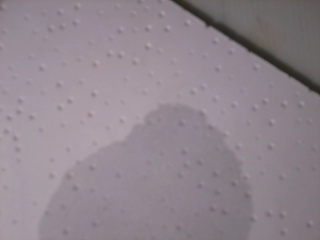Water_detected: (62, 122, 212, 240)
